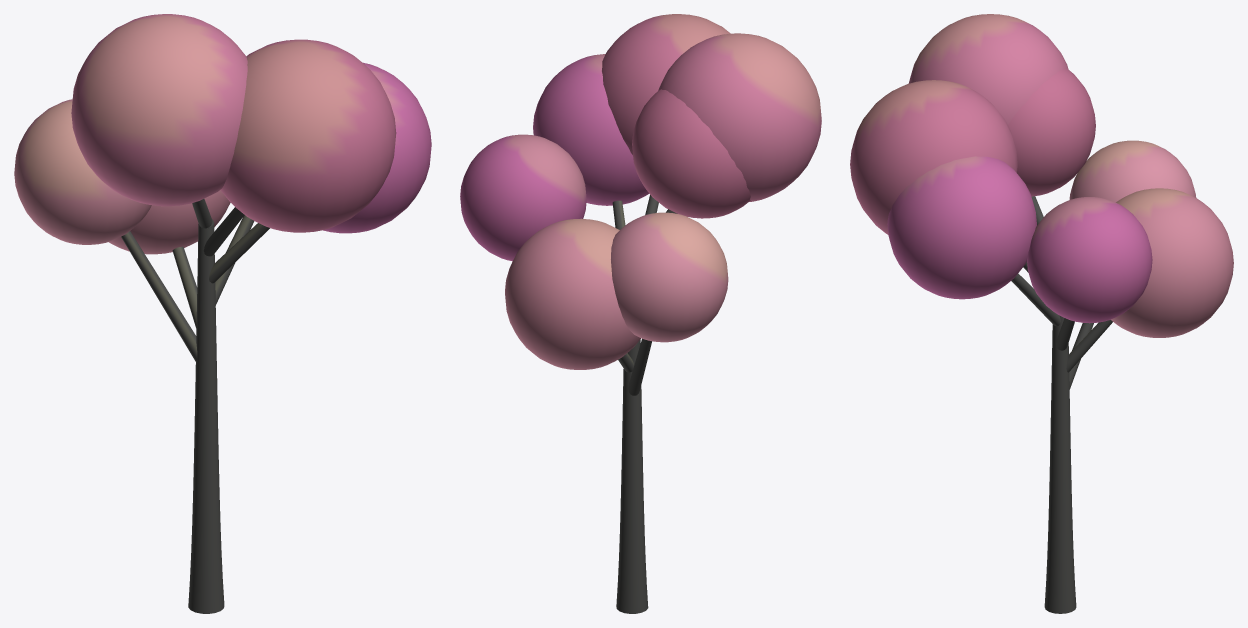
File: sprig-tree-2.obj
3 views of the same model, side by side, from view 1: azimuth 30°, elevation 25°; view 2: azimuth 150°, elevation 25°; view 3: azimuth 270°, elevation 25° (orthographic). The views are drawn at different scales.
Parts seen in each view (by area): view 1: tree; view 2: tree; view 3: tree.
Part boxes in pixels (x1=…): tree: x1=14, y1=14, x2=431, y2=613; tree: x1=460, y1=14, x2=821, y2=613; tree: x1=850, y1=14, x2=1233, y2=613.
Bounding box in the file's own units: 269 × 491 × 309.
